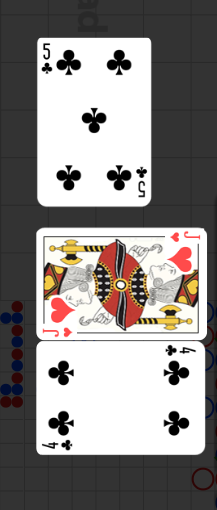4C: (163, 344, 197, 358)
5C: (41, 42, 55, 77), (135, 164, 149, 199)
